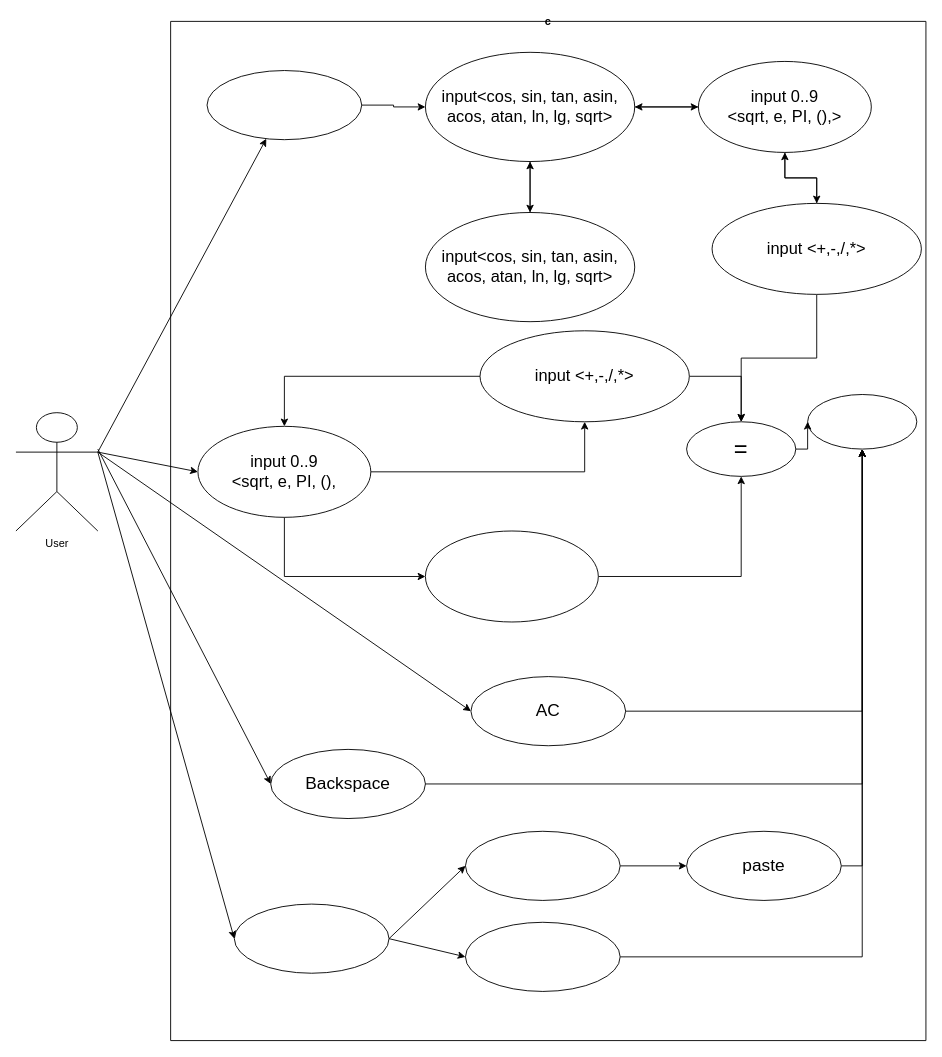
Some shapes in this 942 by 1057 pixel diagram are drawn without their labels. Here are the shapes that lost their labels. From the top down, the centre of each, then its label:
At (x=284, y=105): "Change mode".
At (x=862, y=421): "OUTPUT".
At (x=511, y=576): "x!".
At (x=542, y=865): "copy number".
At (x=311, y=938): "select_number".
At (x=542, y=956): "paste number".
